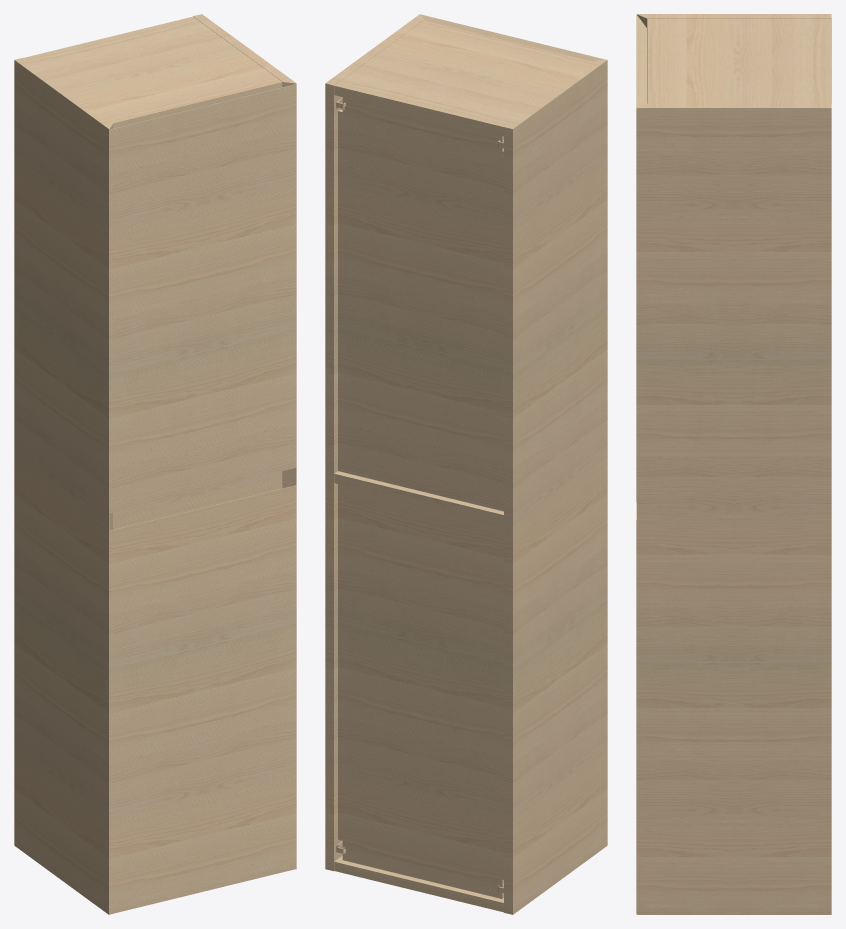
Rendered from pilar moment 1600 2p.glb.
The picture shows the model from 3 angles, left to right: view 1: azimuth 30°, elevation 25°; view 2: azimuth 150°, elevation 25°; view 3: azimuth 270°, elevation 25°; orthographic projection. The views are drawn at different scales.
Visible parts, largest first — view 1: pilar moment 1600 2p.001; view 2: pilar moment 1600 2p.001; view 3: pilar moment 1600 2p.001.
Boxes of the visible parts, x1,y1,x2,y2 form: pilar moment 1600 2p.001: (14, 14, 296, 914); pilar moment 1600 2p.001: (325, 14, 607, 914); pilar moment 1600 2p.001: (636, 14, 831, 914).
Bounding box in the file's own units: 0.4 × 1.6 × 0.351.
1 material, 1 textured.
